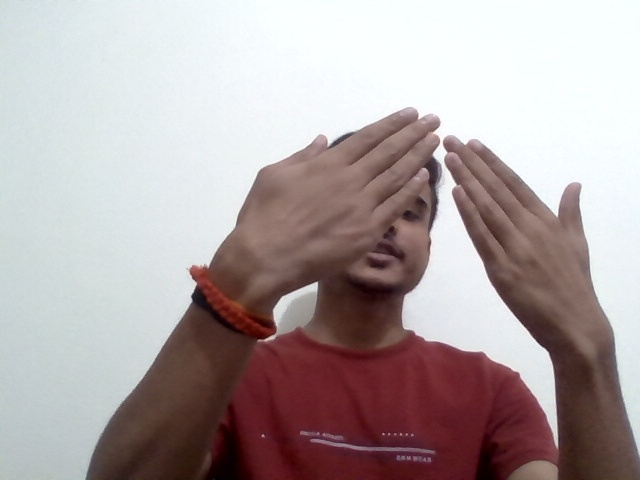Thank_You: (178, 89, 640, 389)
